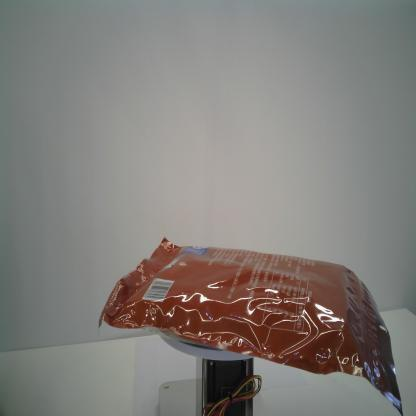Dried Food: (96, 237, 404, 414)
